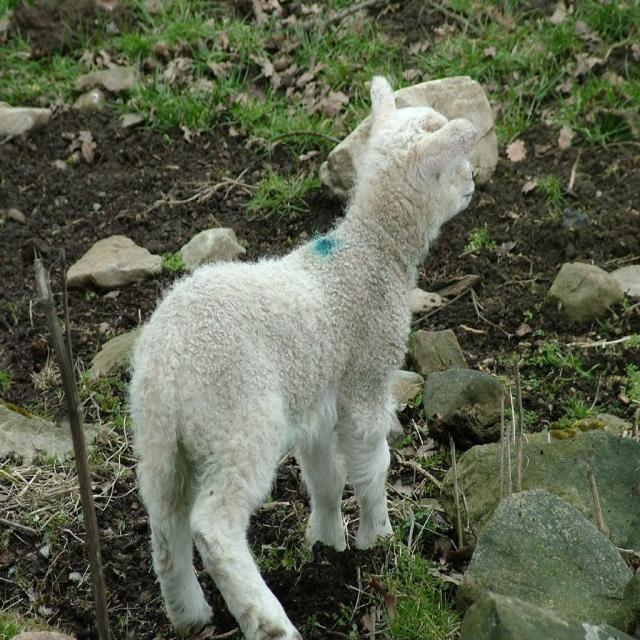Sheep: (128, 67, 489, 638)
